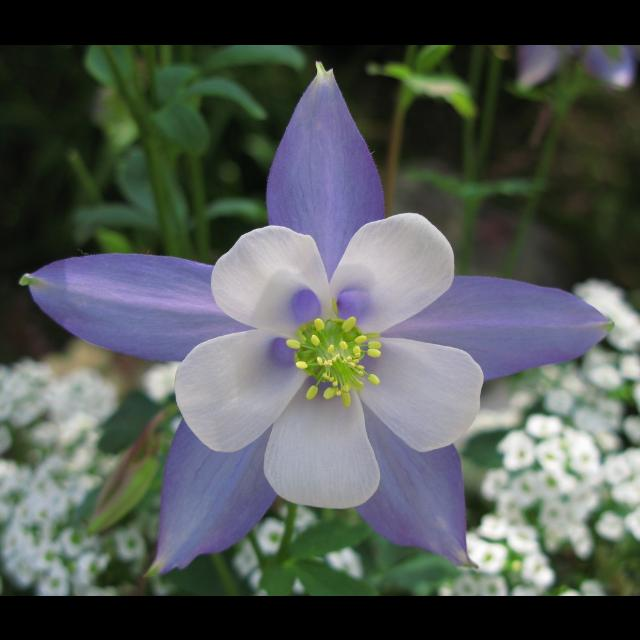Flower: (143, 116, 503, 574), (436, 278, 640, 596), (0, 359, 146, 595), (232, 501, 364, 595), (146, 359, 178, 406)
